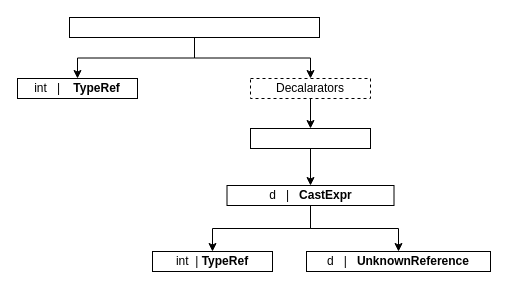
Some shapes in this 508 by 289 pixel diagram are drawn without their labels. The shapes that lost their labels are listed below. From the top down, each one's centre as x and y in pixels, then its label:
At point (194, 27): "VariableDeclStmt | VariableDeclStmt".
At point (310, 138): "i | Decalarator".
